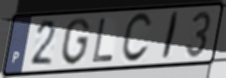2: (27, 18, 59, 71)
3: (183, 9, 214, 60)
C: (119, 11, 154, 66)
G: (59, 16, 92, 67)
I: (159, 11, 181, 63)
L: (90, 17, 115, 65)
